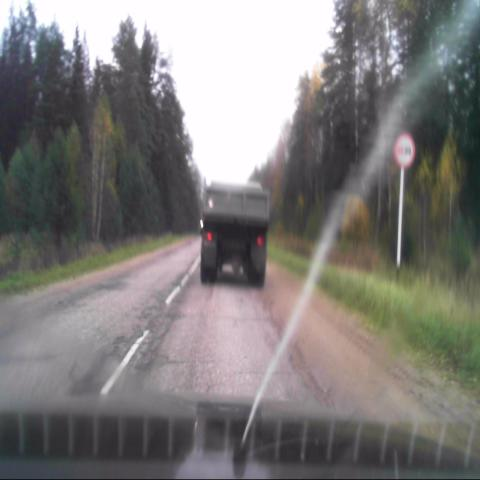3_20: (393, 132, 415, 170)
